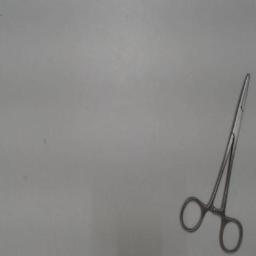Mayo Needle Holder: (178, 68, 254, 254)
